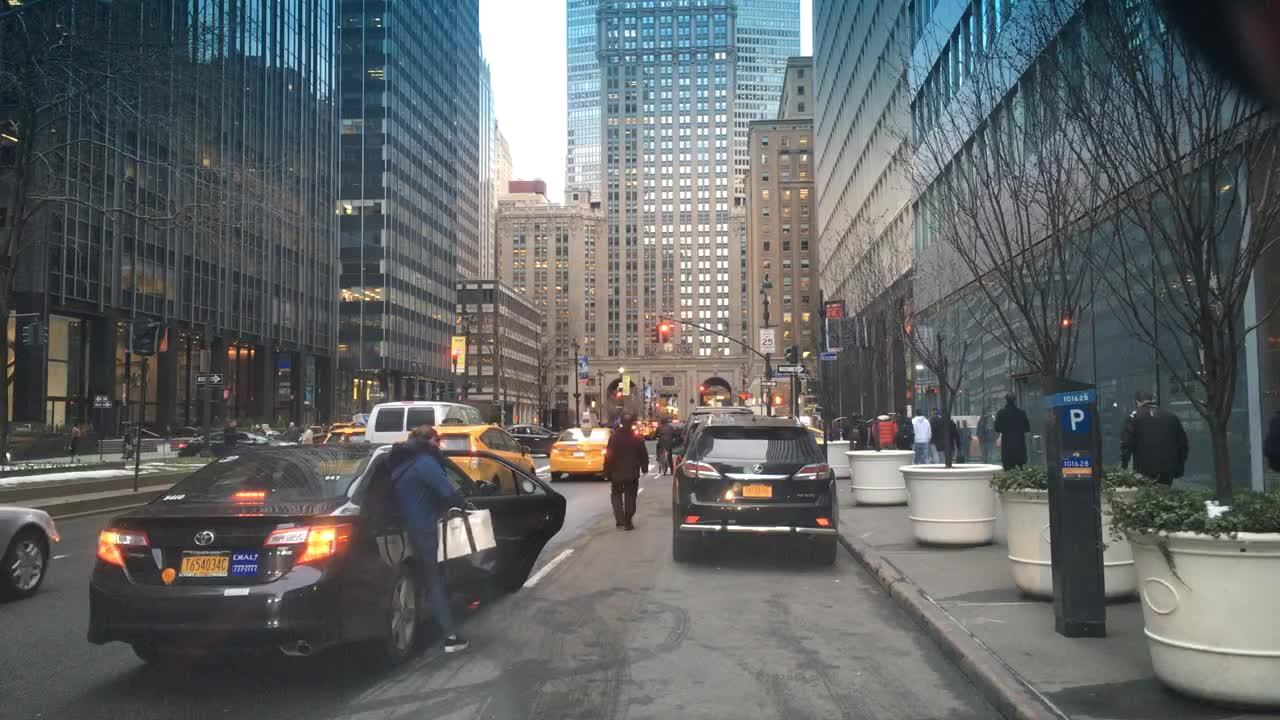Toyota: (190, 525, 220, 553)
lexus: (750, 462, 766, 475)
